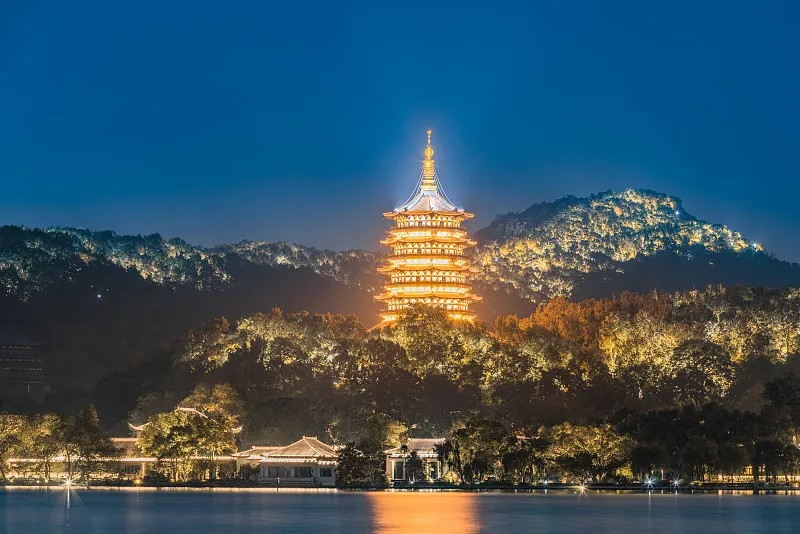Leifeng: (375, 128, 483, 331)
